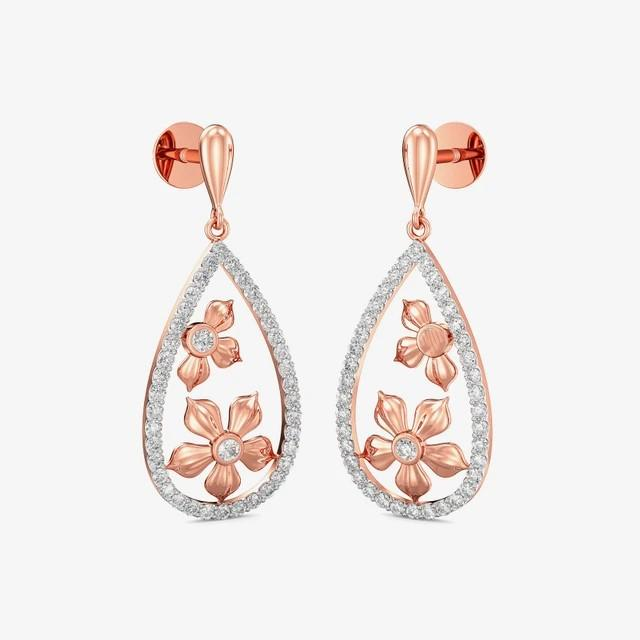missing gem: (419, 328, 445, 354)
